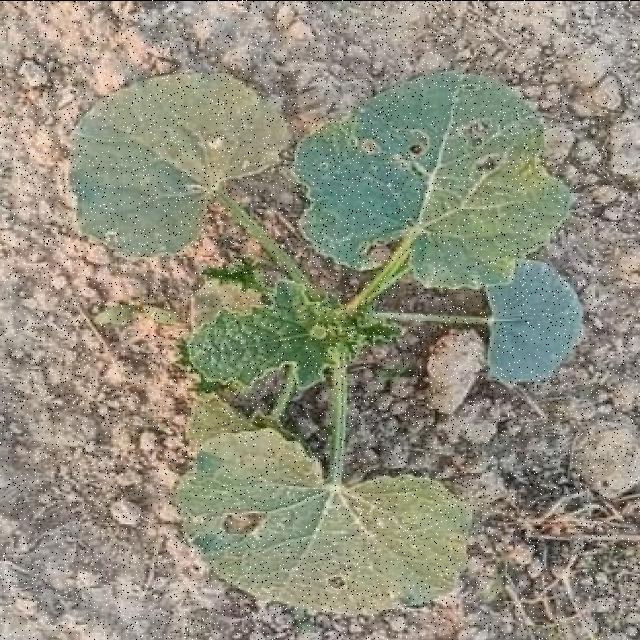plant: (70, 71, 582, 385), (178, 360, 469, 612)
